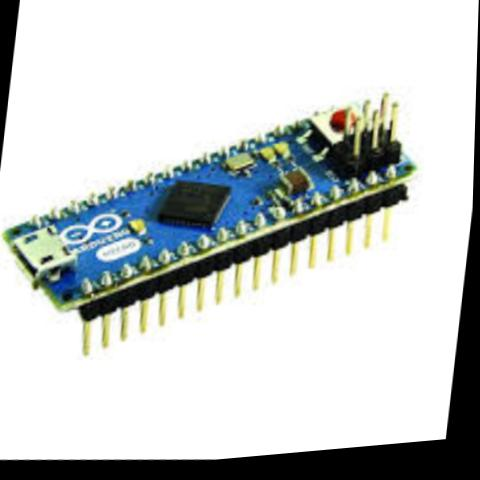Arduino-Micro: (0, 57, 440, 401)
